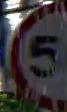Speed limit: (9, 3, 66, 110)
